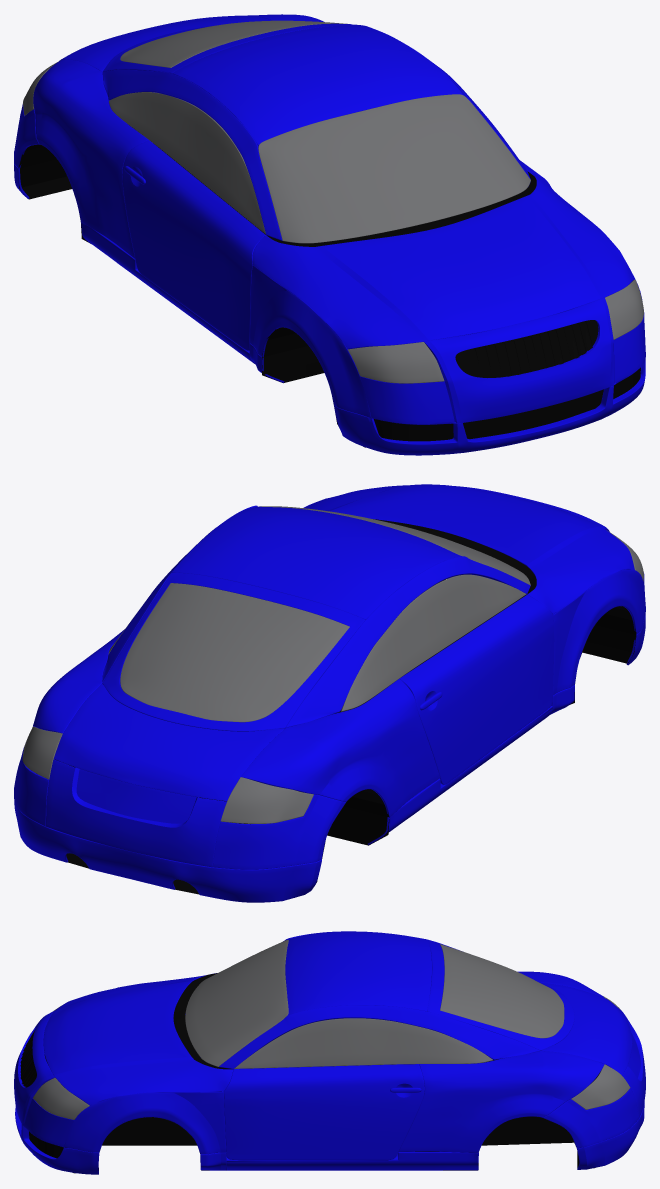
The model's file is AudiTT_release.fbx.
The picture shows the model from 3 angles, top to bottom: view 1: azimuth 30°, elevation 25°; view 2: azimuth 150°, elevation 25°; view 3: azimuth 270°, elevation 25°; orthographic projection. The views are drawn at different scales.
Visible parts, largest first — view 1: Капот, Лобарь, Крыша, Бампер перед 1, Двери, Задние крылья, Передний бампер низ, Стекла дверей, Передние крылья, Арки, Дно, Фары (+6 smaller); view 2: Заднее стекло, Крыша, Задние крылья, Двери, Капот, Багажник, Зад, Стекла дверей, Задний бампер, Часть заднего крыла, Арки, Рамка заднего стекла (+6 smaller); view 3: Двери, Капот, Задние крылья, Крыша, Стекла дверей, Лобарь, Заднее стекло, Передние крылья, Арки, Багажник, Дно, Пороги (+10 smaller).
Boxes of the visible parts, <box> form: Капот: <box>252,171,634,349</box>; Лобарь: <box>258,94,530,243</box>; Крыша: <box>172,25,463,146</box>; Бампер перед 1: <box>360,297,645,424</box>; Двери: <box>122,140,550,350</box>; Задние крылья: <box>33,14,323,258</box>; Передний бампер низ: <box>334,360,645,455</box>; Стекла дверей: <box>109,92,265,233</box>; Передние крылья: <box>249,226,642,417</box>; Арки: <box>102,24,530,240</box>; Дно: <box>18,125,365,447</box>; Фары: <box>348,279,643,383</box>; Заднее стекло: <box>120,583,349,722</box>; Крыша: <box>172,506,461,619</box>; Задние крылья: <box>33,629,440,816</box>; Двери: <box>399,594,554,784</box>; Капот: <box>303,484,634,614</box>; Багажник: <box>53,684,284,801</box>; Зад: <box>46,759,226,867</box>; Стекла дверей: <box>108,574,526,711</box>; Задний бампер: <box>14,797,321,902</box>; Часть заднего крыла: <box>14,748,345,869</box>; Арки: <box>102,505,530,727</box>; Рамка заднего стекла: <box>102,572,365,731</box>; Двери: <box>224,1018,424,1160</box>; Капот: <box>43,973,233,1105</box>; Задние крылья: <box>398,971,604,1152</box>; Крыша: <box>285,931,431,1015</box>; Стекла дверей: <box>234,1018,492,1068</box>; Лобарь: <box>185,940,288,1066</box>; Заднее стекло: <box>440,944,564,1038</box>; Передние крылья: <box>64,1014,226,1154</box>; Арки: <box>219,933,540,1069</box>; Багажник: <box>541,983,632,1075</box>; Дно: <box>43,1018,599,1173</box>; Пороги: <box>226,1064,478,1170</box>.
Bounding box in the file's own units: 176 × 115 × 404.
